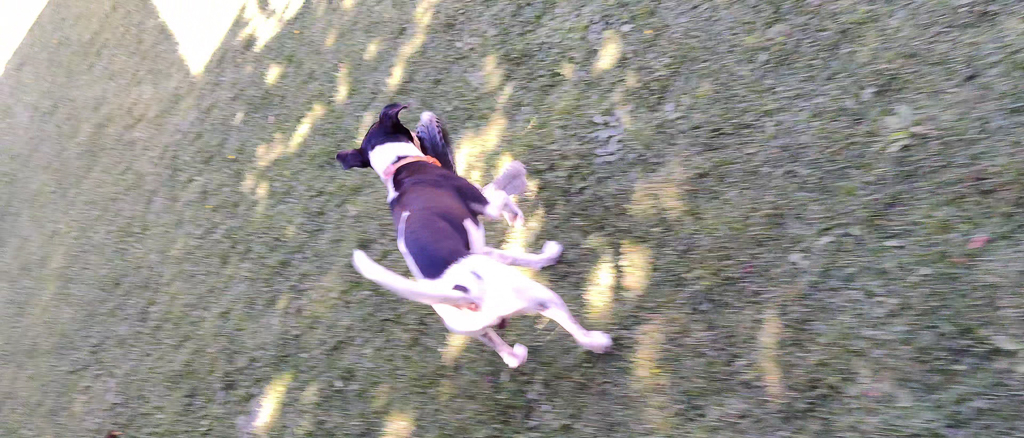Dog: (322, 83, 637, 381)
